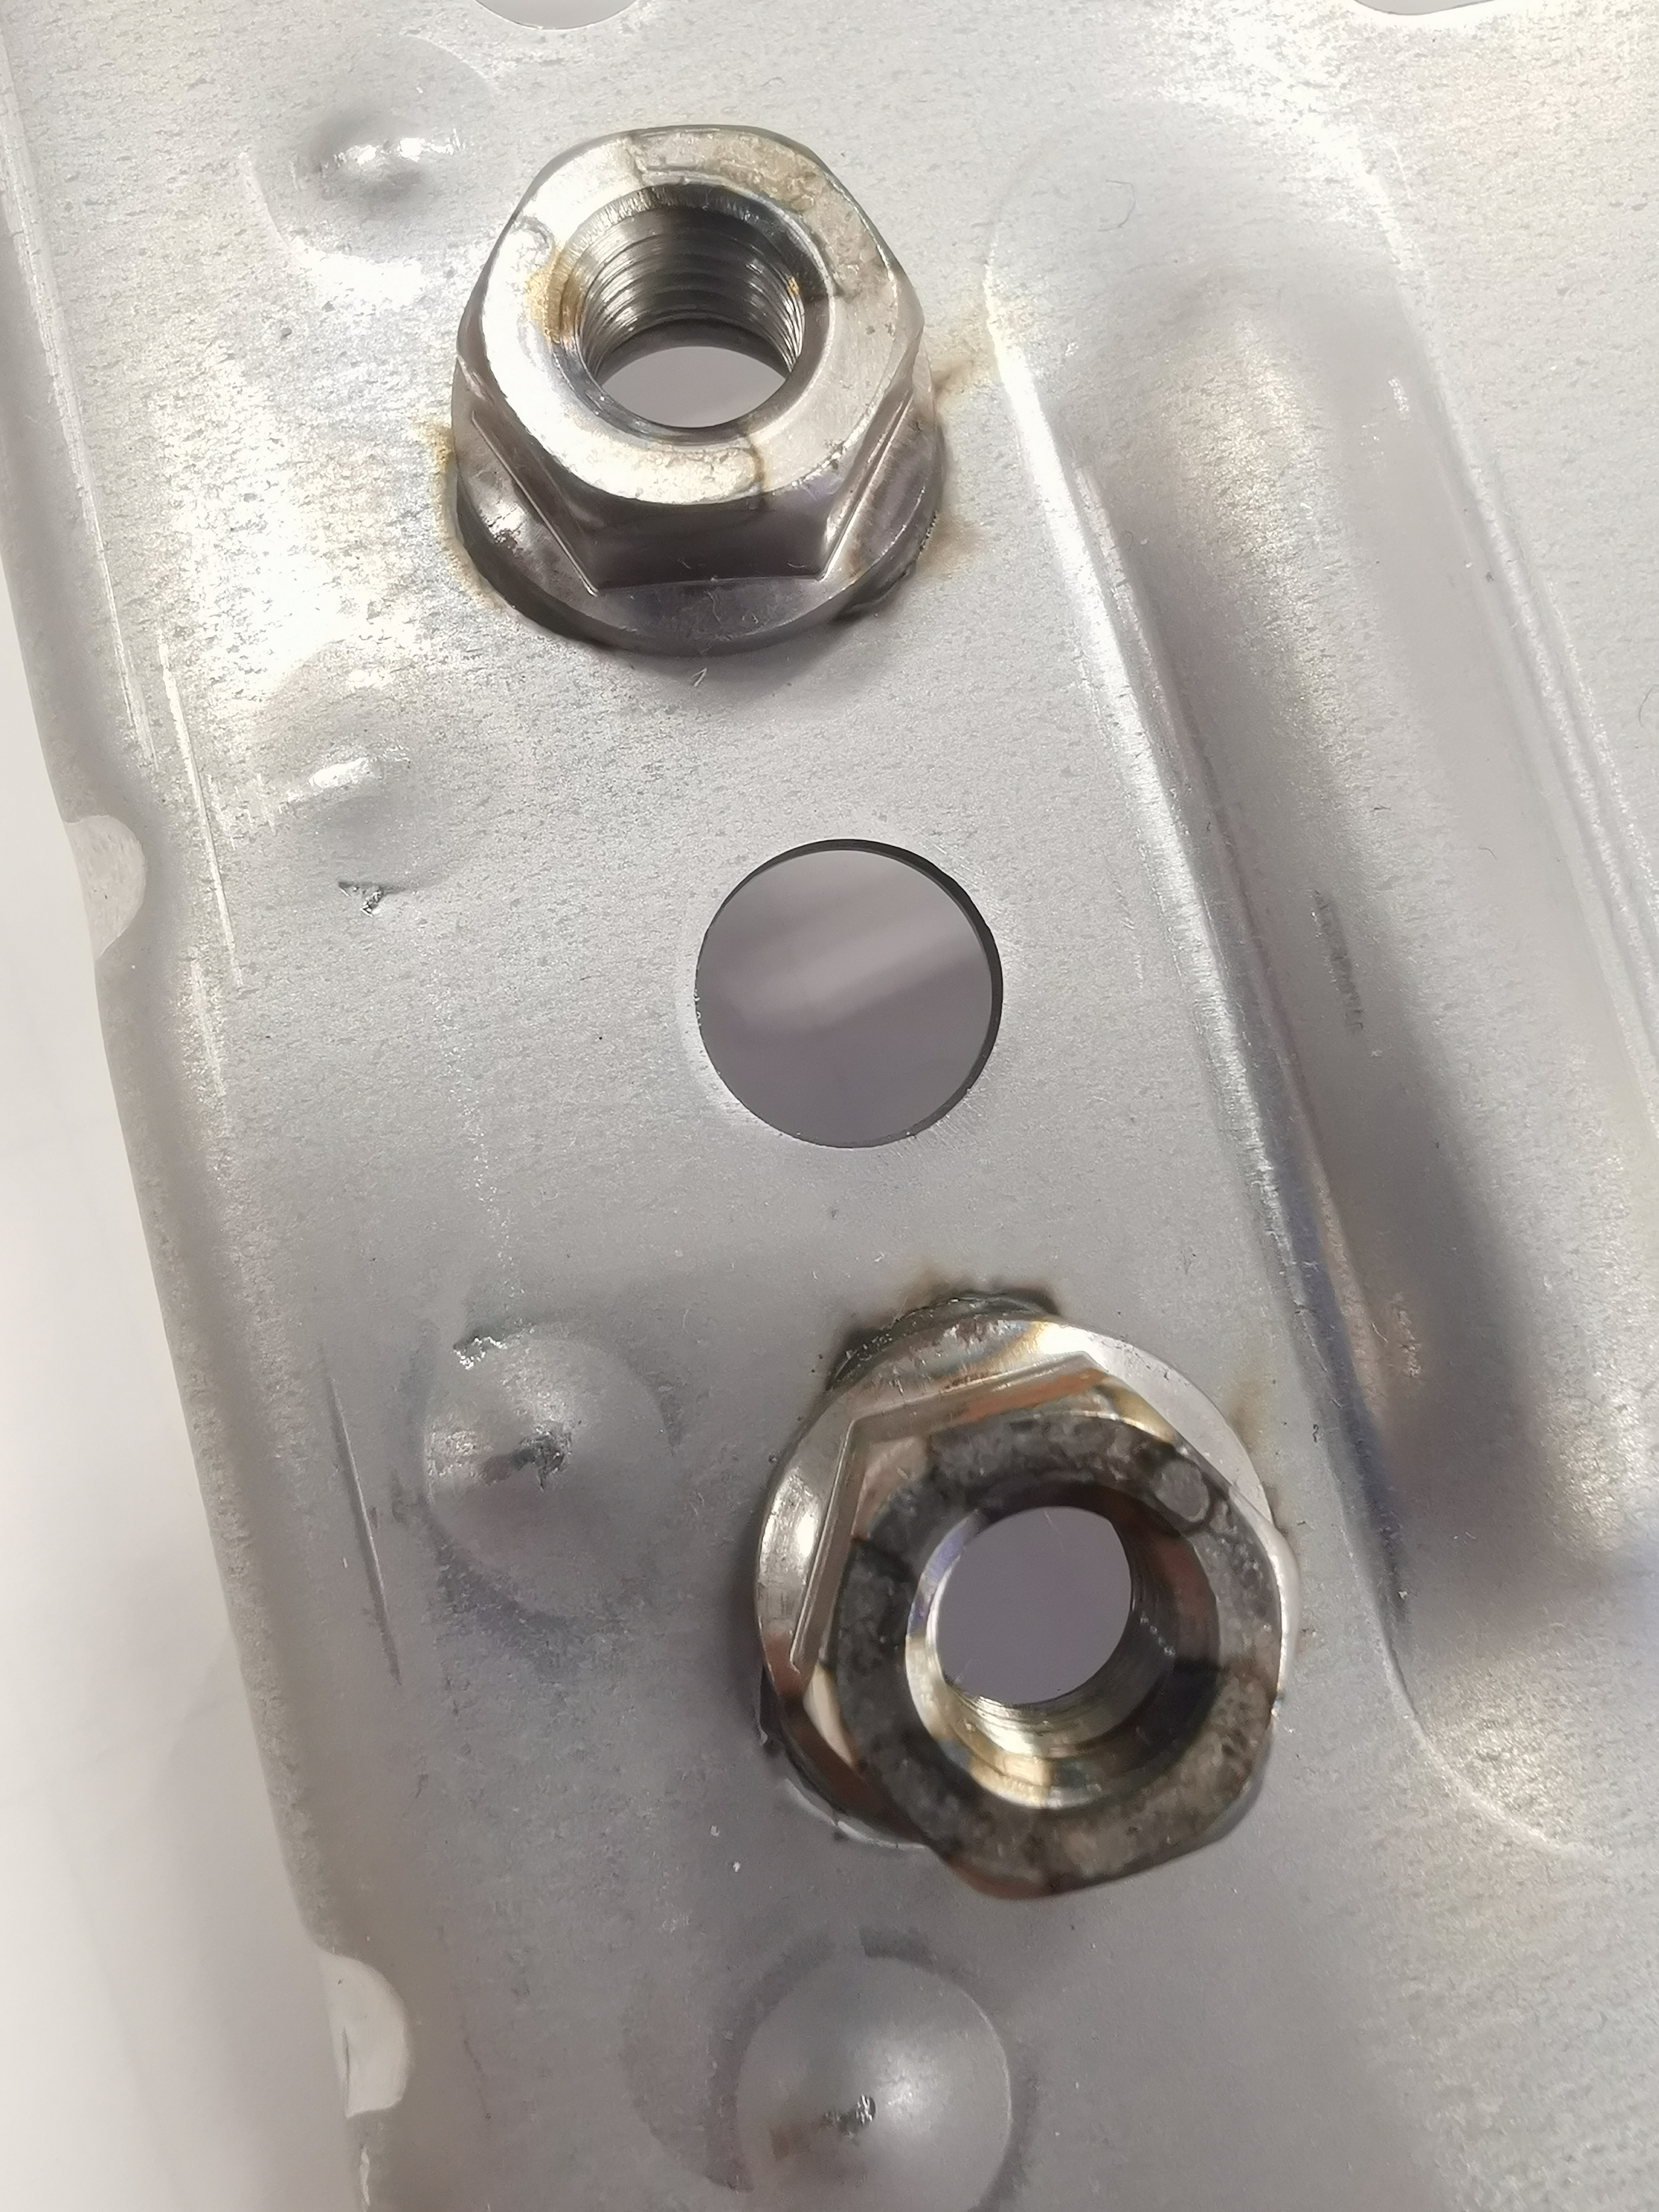dog: (734, 1273, 1317, 1907), (437, 115, 958, 674)
